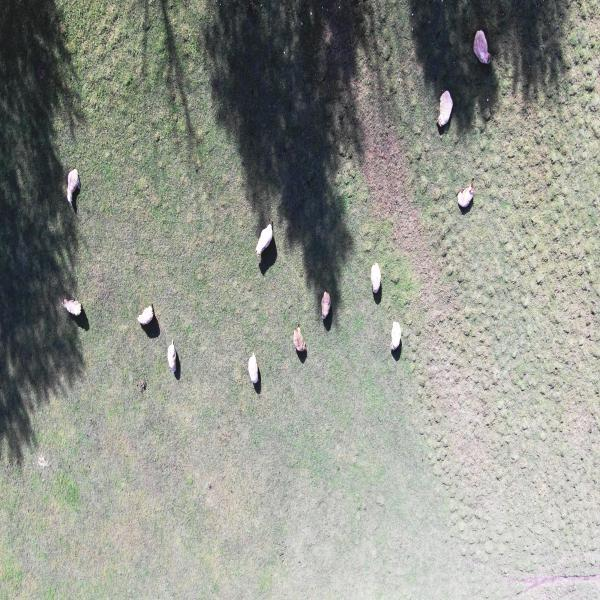sheep: (239, 347, 270, 396), (380, 317, 406, 369), (464, 31, 495, 73), (64, 168, 87, 217), (310, 284, 337, 324), (284, 320, 313, 357), (452, 179, 480, 217), (254, 221, 277, 266), (428, 97, 455, 134), (62, 289, 83, 327), (366, 260, 384, 301), (135, 300, 157, 331), (164, 339, 180, 377)
